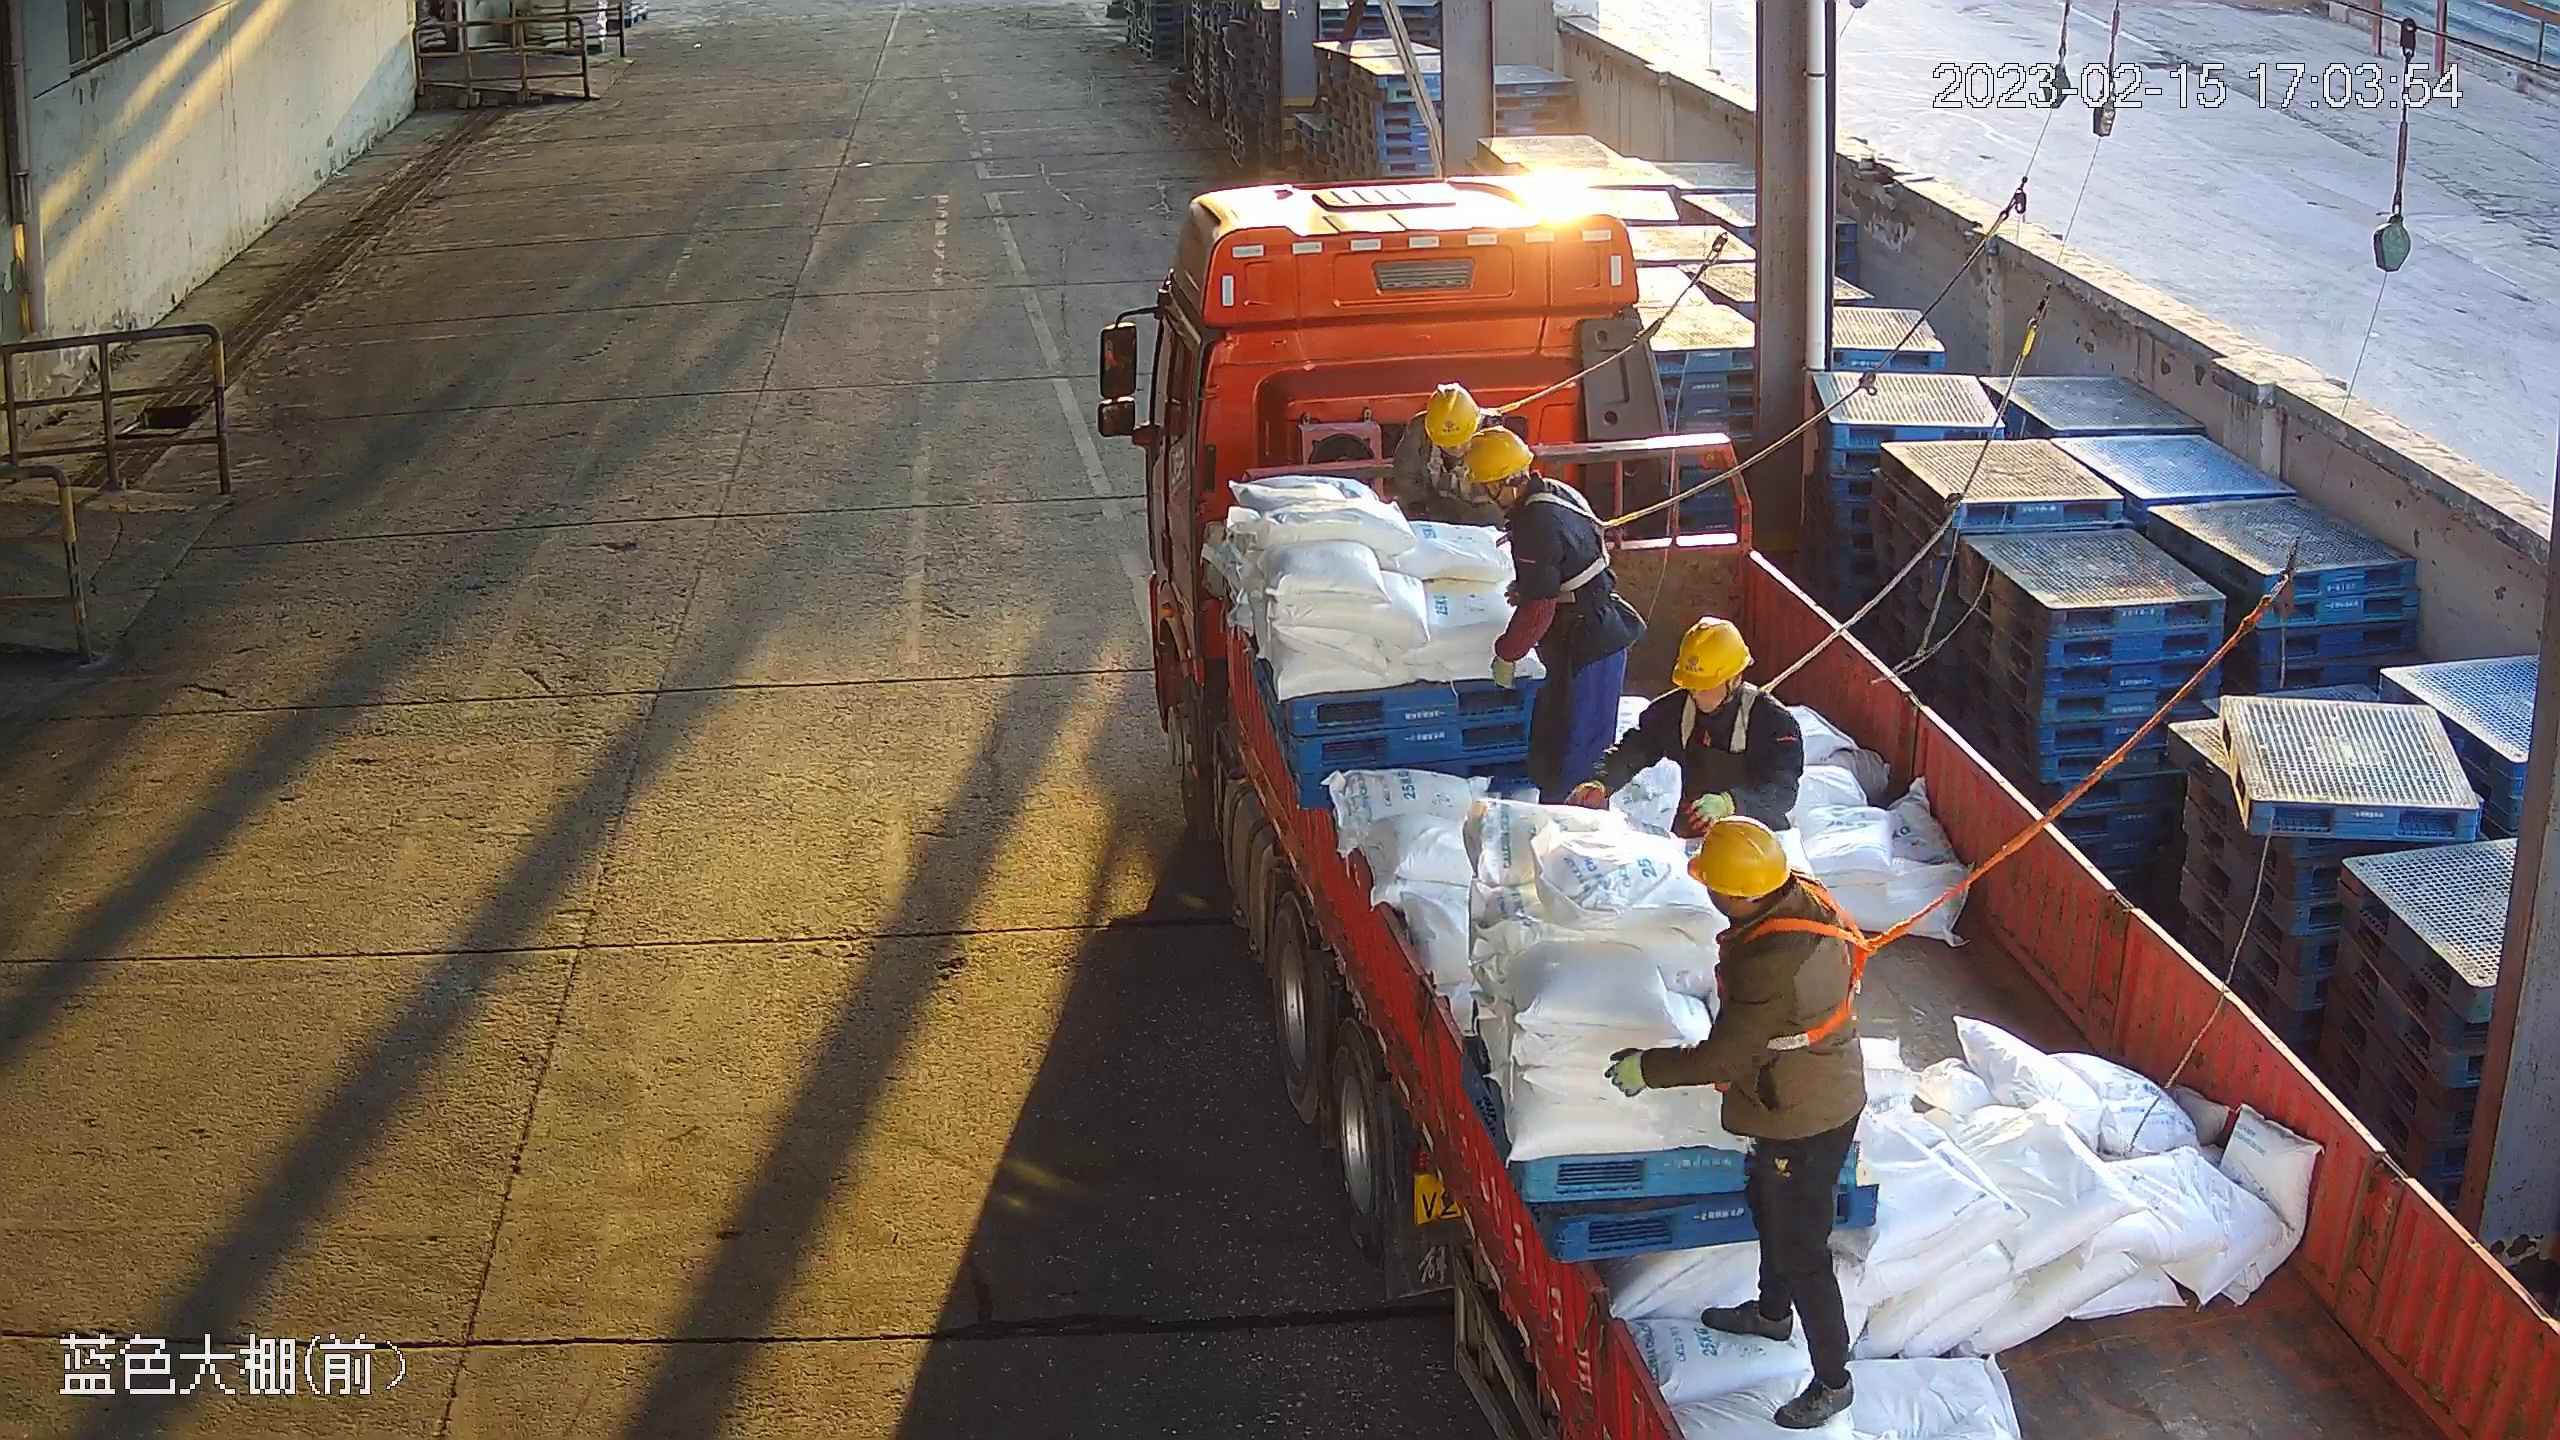belt: (1706, 877, 1934, 1055), (1495, 474, 1649, 603), (1666, 676, 1803, 759), (1419, 397, 1513, 477)
head: (1685, 812, 1862, 982), (1641, 613, 1800, 737), (1463, 424, 1602, 533), (1405, 379, 1527, 471)
helmet: (1685, 813, 1792, 899), (1670, 614, 1755, 691), (1463, 424, 1536, 486), (1423, 380, 1482, 449)
people: (1603, 811, 1873, 1434), (1462, 421, 1648, 815), (1560, 614, 1807, 839)
truck: (1140, 167, 2560, 1440)
